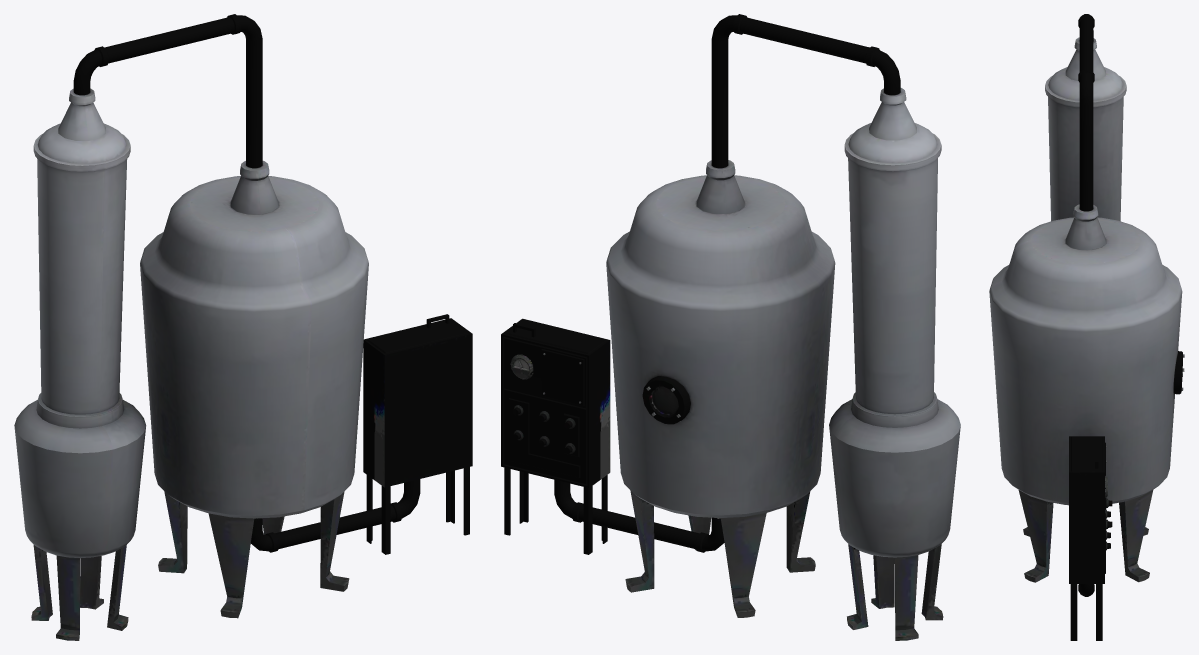
3 renders of one model, left to right at view 1: azimuth 30°, elevation 25°; view 2: azimuth 150°, elevation 25°; view 3: azimuth 270°, elevation 25°, orthographic. The views are drawn at different scales.
Visible parts, largest first — view 1: body0_model0_lod0_mesh0; view 2: body0_model0_lod0_mesh0; view 3: body0_model0_lod0_mesh0.
Boxes of the visible parts, <box> form: body0_model0_lod0_mesh0: <box>14,14,472,640</box>; body0_model0_lod0_mesh0: <box>501,14,960,640</box>; body0_model0_lod0_mesh0: <box>989,14,1184,640</box>.
Bounding box in the file's own units: 154 × 190 × 70.2.
Materials: 1 (1 with a texture image).
